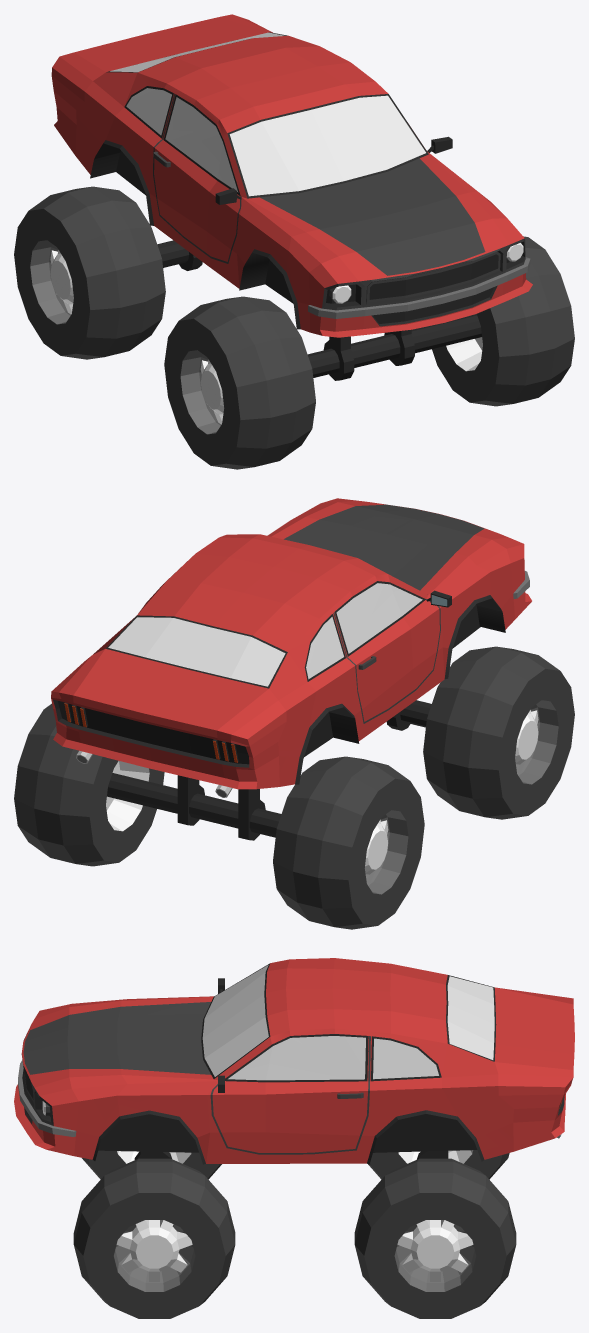
File: Monster Truck_6.fbx
3 renders of one model, top to bottom at view 1: azimuth 30°, elevation 25°; view 2: azimuth 150°, elevation 25°; view 3: azimuth 270°, elevation 25°, orthographic. The views are drawn at different scales.
Parts seen in each view (by area): view 1: Monster Truck_6 Lod_0, Monster Truck_6 FR Tire, Monster Truck_6 BR Tire, Monster Truck_6 FL Tire, Monster Truck_6 R Door; view 2: Monster Truck_6 Lod_0, Monster Truck_6 BR Tire, Monster Truck_6 FR Tire, Monster Truck_6 BL Tire, Monster Truck_6 R Door; view 3: Monster Truck_6 Lod_0, Monster Truck_6 BL Tire, Monster Truck_6 FL Tire, Monster Truck_6 L Door, Monster Truck_6 BR Tire, Monster Truck_6 FR Tire.
Boxes of the visible parts, x1,y1,x2,y2 form: Monster Truck_6 Lod_0: [51, 14, 532, 380]; Monster Truck_6 FR Tire: [164, 296, 315, 469]; Monster Truck_6 BR Tire: [14, 186, 165, 359]; Monster Truck_6 FL Tire: [432, 236, 574, 406]; Monster Truck_6 R Door: [153, 93, 241, 263]; Monster Truck_6 Lod_0: [51, 498, 531, 840]; Monster Truck_6 BR Tire: [273, 756, 424, 929]; Monster Truck_6 FR Tire: [423, 646, 574, 819]; Monster Truck_6 BL Tire: [14, 703, 164, 866]; Monster Truck_6 R Door: [333, 581, 451, 723]; Monster Truck_6 Lod_0: [14, 958, 574, 1164]; Monster Truck_6 BL Tire: [354, 1158, 516, 1318]; Monster Truck_6 FL Tire: [73, 1158, 235, 1318]; Monster Truck_6 L Door: [210, 1034, 370, 1154]; Monster Truck_6 BR Tire: [368, 1150, 509, 1179]; Monster Truck_6 FR Tire: [82, 1150, 221, 1179].
Size of what is drawn, in the model's own units: 2.95 by 2.37 by 4.58.
